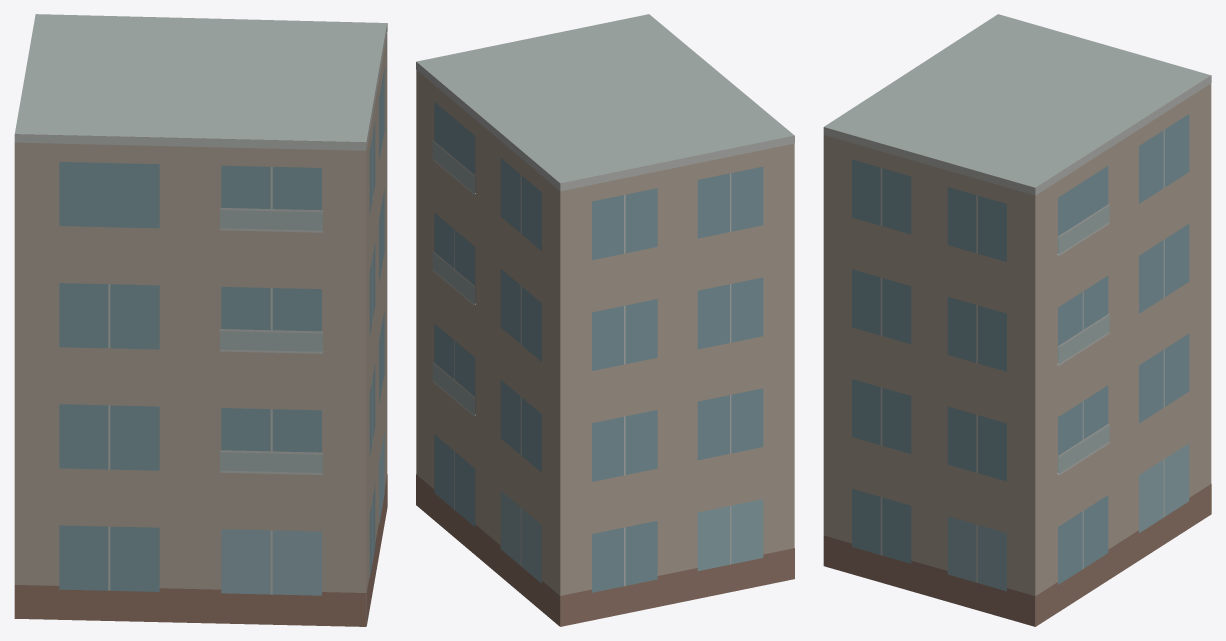
File: survey-upis-32558133.glb
3 renders of one model, left to right at view 1: azimuth 30°, elevation 25°; view 2: azimuth 150°, elevation 25°; view 3: azimuth 270°, elevation 25°, orthographic. The views are drawn at different scales.
Visible parts, largest first — view 1: survey-upis-32558133.tmp; view 2: survey-upis-32558133.tmp; view 3: survey-upis-32558133.tmp.
Part boxes in pixels (<box>): survey-upis-32558133.tmp: <box>14,14,387,626</box>; survey-upis-32558133.tmp: <box>416,14,794,626</box>; survey-upis-32558133.tmp: <box>823,14,1211,626</box>.
Size of the model in its own units: 11.64 by 13.7 by 10.97.
